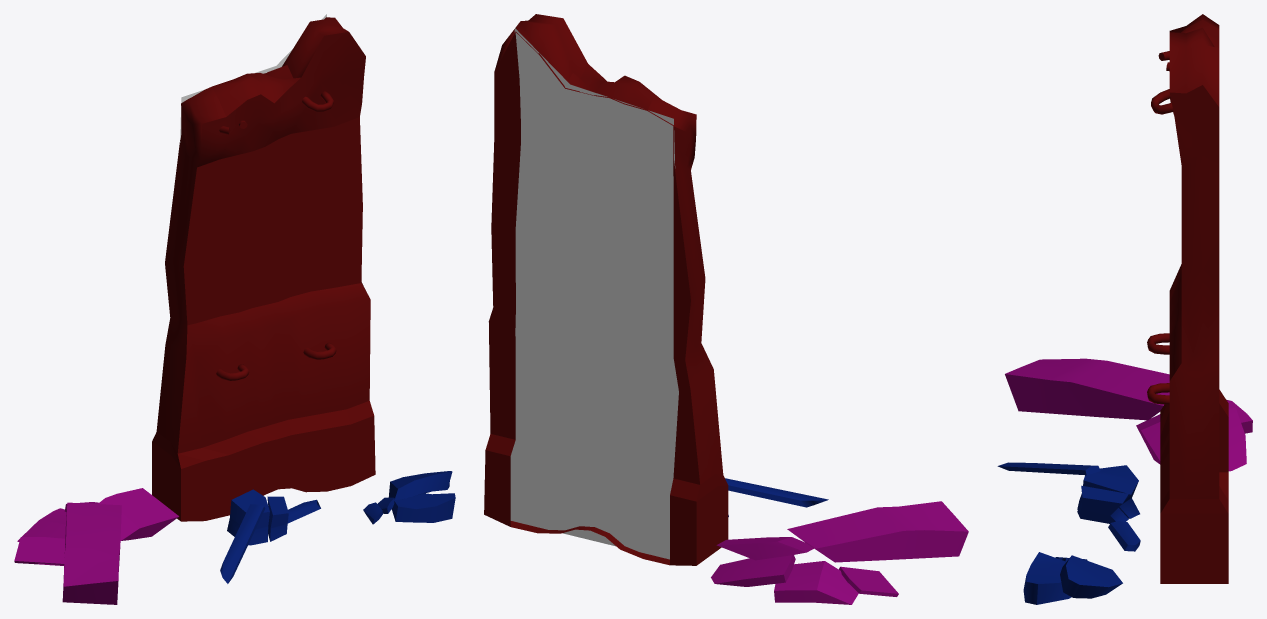
Rendered from BrokenWall2.FBX.
The picture shows the model from 3 angles, left to right: view 1: azimuth 30°, elevation 25°; view 2: azimuth 150°, elevation 25°; view 3: azimuth 270°, elevation 25°; orthographic projection. The views are drawn at different scales.
Visible parts, largest first — view 1: Concrete Wall, Box005, Box004; view 2: Plane001, Concrete Wall, Box005, Box004; view 3: Concrete Wall, Box005, Box004.
Part boxes in pixels (left/top/right/bottom): Concrete Wall: left=152, top=17, right=375, bottom=521; Box005: left=14, top=488, right=178, bottom=604; Box004: left=220, top=471, right=455, bottom=583; Plane001: left=510, top=28, right=678, bottom=559; Concrete Wall: left=484, top=14, right=728, bottom=565; Box005: left=711, top=501, right=968, bottom=604; Box004: left=725, top=478, right=828, bottom=516; Concrete Wall: left=1147, top=14, right=1228, bottom=583; Box005: left=1005, top=358, right=1252, bottom=471; Box004: left=997, top=462, right=1140, bottom=604.
Size of the model in its own units: 279 by 304 by 131.
